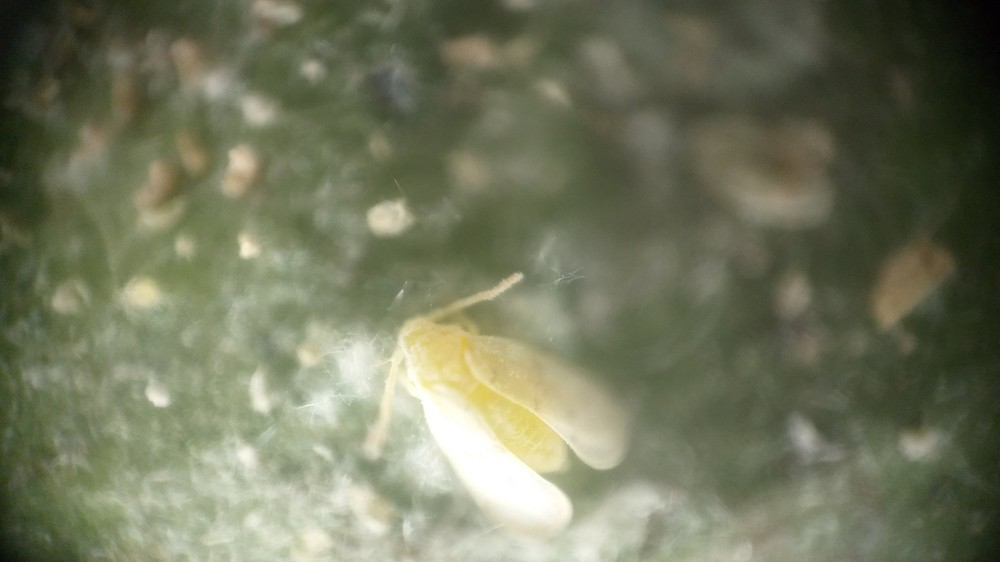Mosca Blanca: (348, 258, 658, 555)
